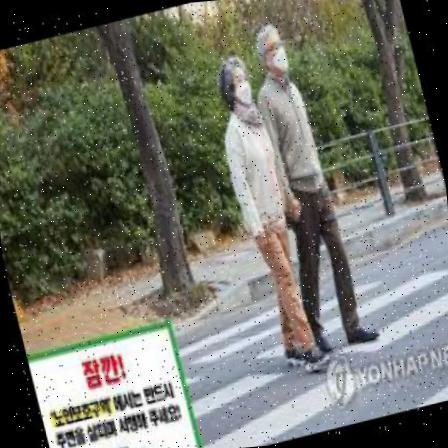silver: (234, 9, 378, 359), (202, 50, 330, 385)
